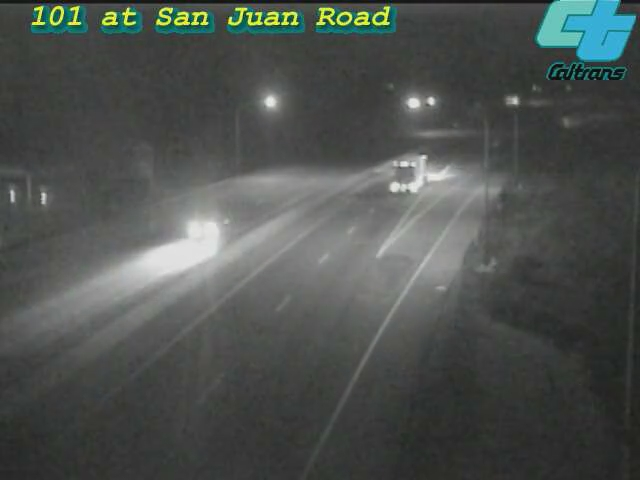vehicle: (163, 189, 243, 269), (374, 132, 454, 212), (543, 97, 593, 147)
